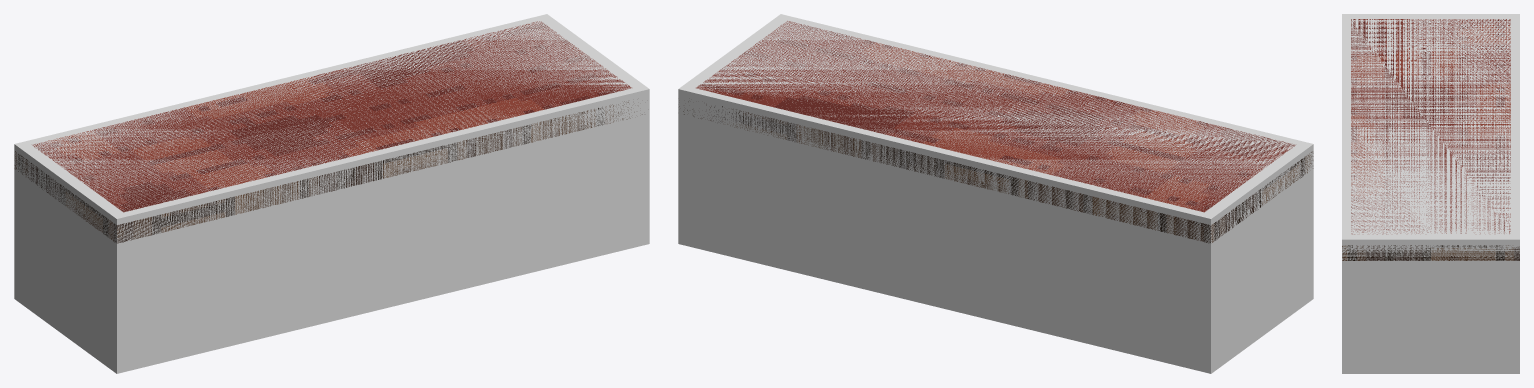
Rendered from JP_Prop_TeaBench_A.glb.
The picture shows the model from 3 angles, left to right: view 1: azimuth 30°, elevation 25°; view 2: azimuth 150°, elevation 25°; view 3: azimuth 270°, elevation 25°; orthographic projection. The views are drawn at different scales.
Visible parts, largest first — view 1: COL_JP_Prop_TeaBench_A, JP_Prop_TeaBench_A; view 2: COL_JP_Prop_TeaBench_A, JP_Prop_TeaBench_A; view 3: COL_JP_Prop_TeaBench_A, JP_Prop_TeaBench_A.
Part boxes in pixels (x1,y1,x2,y2): COL_JP_Prop_TeaBench_A: (14,14,649,373); JP_Prop_TeaBench_A: (14,21,642,243); COL_JP_Prop_TeaBench_A: (678,14,1313,373); JP_Prop_TeaBench_A: (679,21,1313,243); COL_JP_Prop_TeaBench_A: (1342,14,1519,373); JP_Prop_TeaBench_A: (1342,19,1519,260).
Size of the model in its own units: 1.8 by 0.5 by 0.6.
2 materials, 2 textured.
